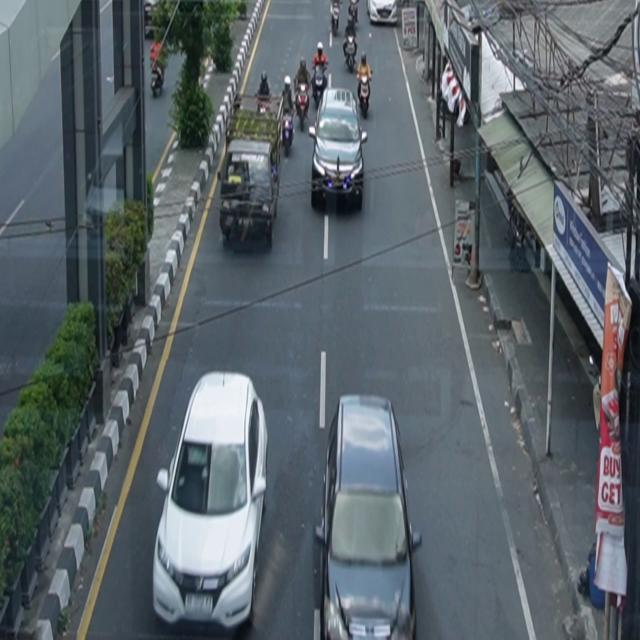car: (153, 371, 269, 634), (314, 394, 423, 640), (309, 88, 369, 213)
